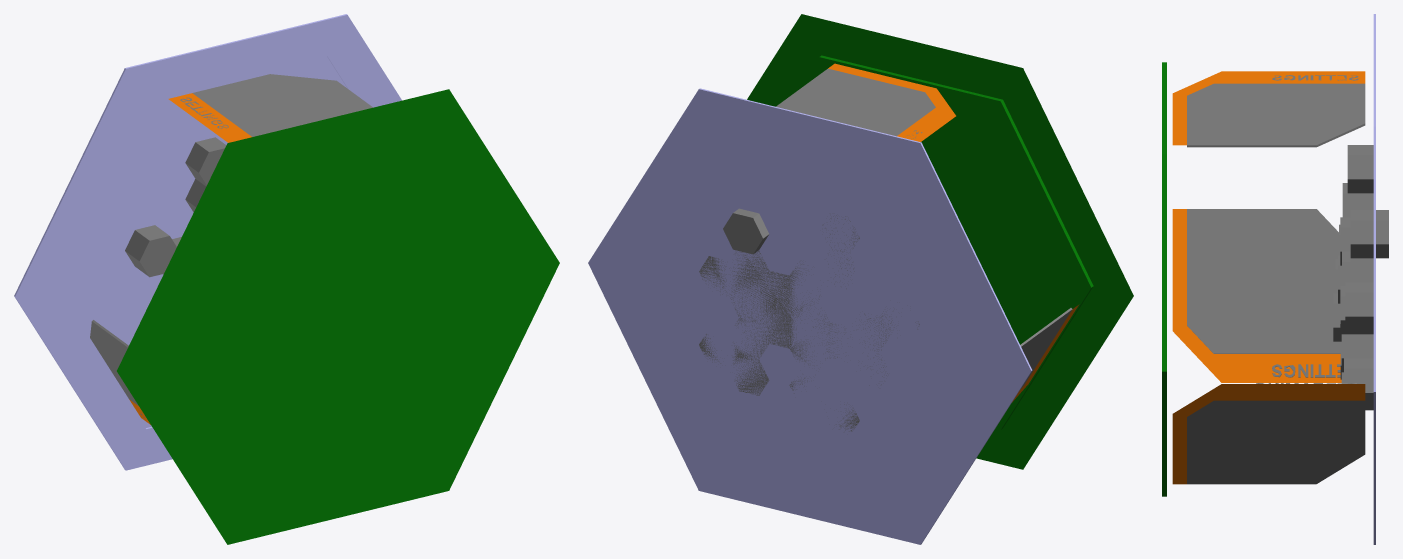
The model's file is TABLETOP SCENE.fbx.
3 views of the same model, side by side, from view 1: azimuth 30°, elevation 25°; view 2: azimuth 150°, elevation 25°; view 3: azimuth 270°, elevation 25° (orthographic). The views are drawn at different scales.
Parts seen in each view (by area): view 1: CEILING, GROUND, PANEL, TABLE, TRIM; view 2: GROUND, CEILING, TABLE, PANEL, TRIM; view 3: PANEL, TRIM, TABLE, CEILING, GROUND, TEXT 1ST.
Part boxes in pixels (bbox=[...]): CEILING: bbox=[117, 89, 559, 544]; GROUND: bbox=[14, 14, 401, 470]; PANEL: bbox=[90, 74, 372, 405]; TABLE: bbox=[125, 137, 226, 277]; TRIM: bbox=[129, 93, 251, 424]; GROUND: bbox=[588, 88, 1032, 544]; CEILING: bbox=[747, 14, 1133, 469]; TABLE: bbox=[699, 208, 919, 431]; PANEL: bbox=[776, 68, 1072, 389]; TRIM: bbox=[828, 63, 1079, 402]; PANEL: bbox=[1187, 83, 1365, 484]; TRIM: bbox=[1172, 71, 1365, 484]; TABLE: bbox=[1333, 145, 1388, 410]; CEILING: bbox=[1162, 62, 1166, 496]; GROUND: bbox=[1373, 14, 1375, 544]; TEXT 1ST: bbox=[1256, 75, 1358, 383].
Bounding box in the file's own units: 37.4 × 32.39 × 15.9.
